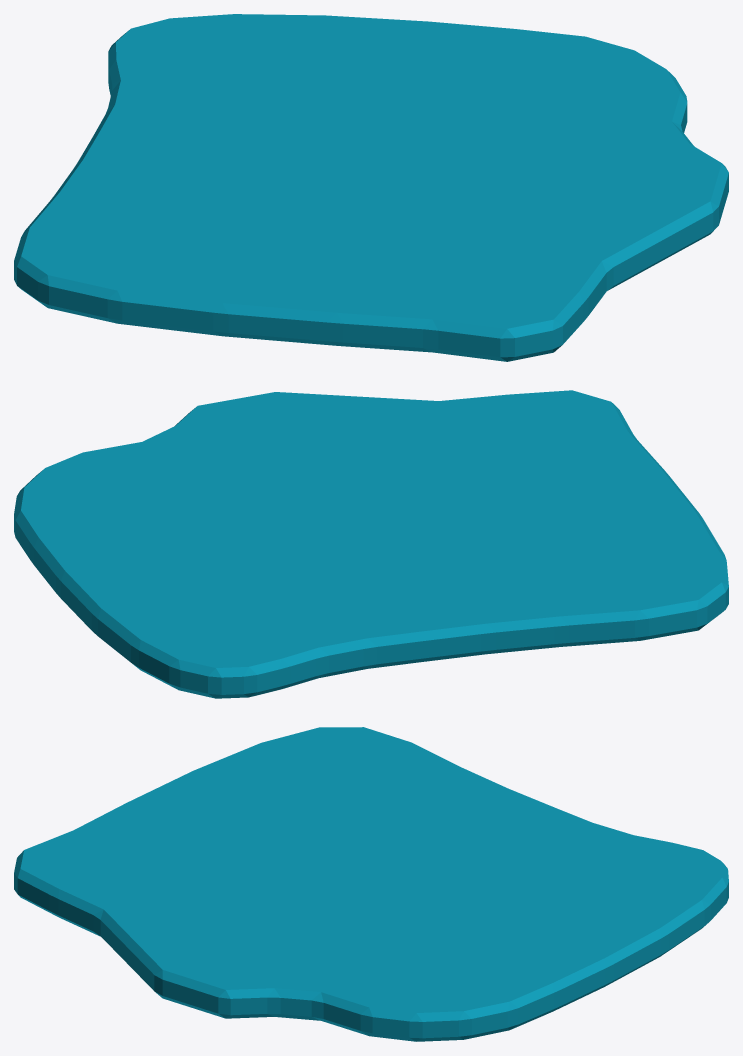
Rendered from puddle.fbx.
The picture shows the model from 3 angles, top to bottom: view 1: azimuth 30°, elevation 25°; view 2: azimuth 150°, elevation 25°; view 3: azimuth 270°, elevation 25°; orthographic projection. The views are drawn at different scales.
Visible parts, largest first — view 1: Cylinder; view 2: Cylinder; view 3: Cylinder.
Part boxes in pixels (left/top/right/bottom): Cylinder: left=14, top=14, right=728, bottom=361; Cylinder: left=14, top=390, right=728, bottom=698; Cylinder: left=14, top=727, right=728, bottom=1041.
Size of the model in its own units: 270 by 12.4 by 280.
